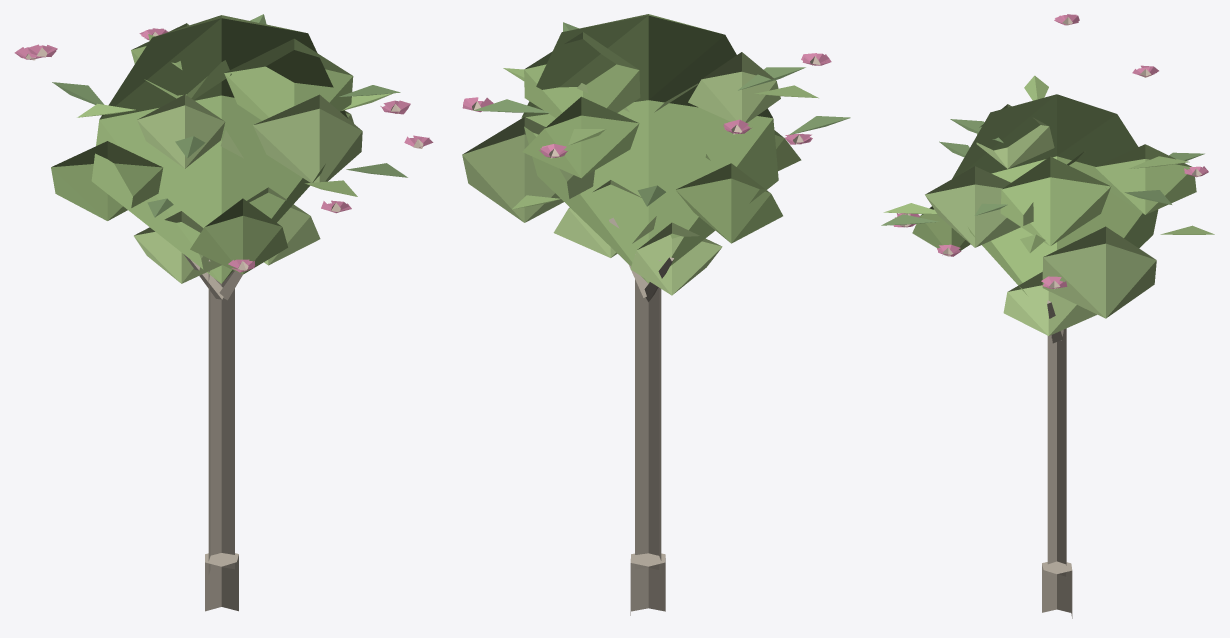
File: shu.baigan@flowering__bloom.glb
3 renders of one model, left to right at view 1: azimuth 30°, elevation 25°; view 2: azimuth 150°, elevation 25°; view 3: azimuth 270°, elevation 25°, orthographic. The views are drawn at different scales.
Parts seen in each view (by area): view 1: shu.baigan@flowering__bloom; view 2: shu.baigan@flowering__bloom; view 3: shu.baigan@flowering__bloom.
Boxes of the visible parts, <box> form: shu.baigan@flowering__bloom: <box>14,14,433,611</box>; shu.baigan@flowering__bloom: <box>462,14,850,615</box>; shu.baigan@flowering__bloom: <box>881,14,1214,618</box>.
Bounding box in the file's own units: 9.82 × 15.24 × 8.8.
